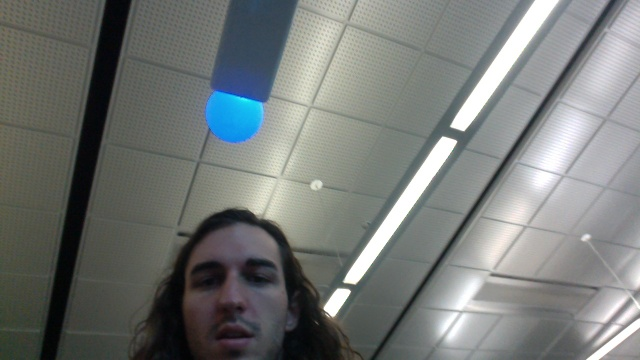wand: (205, 92, 264, 142)
